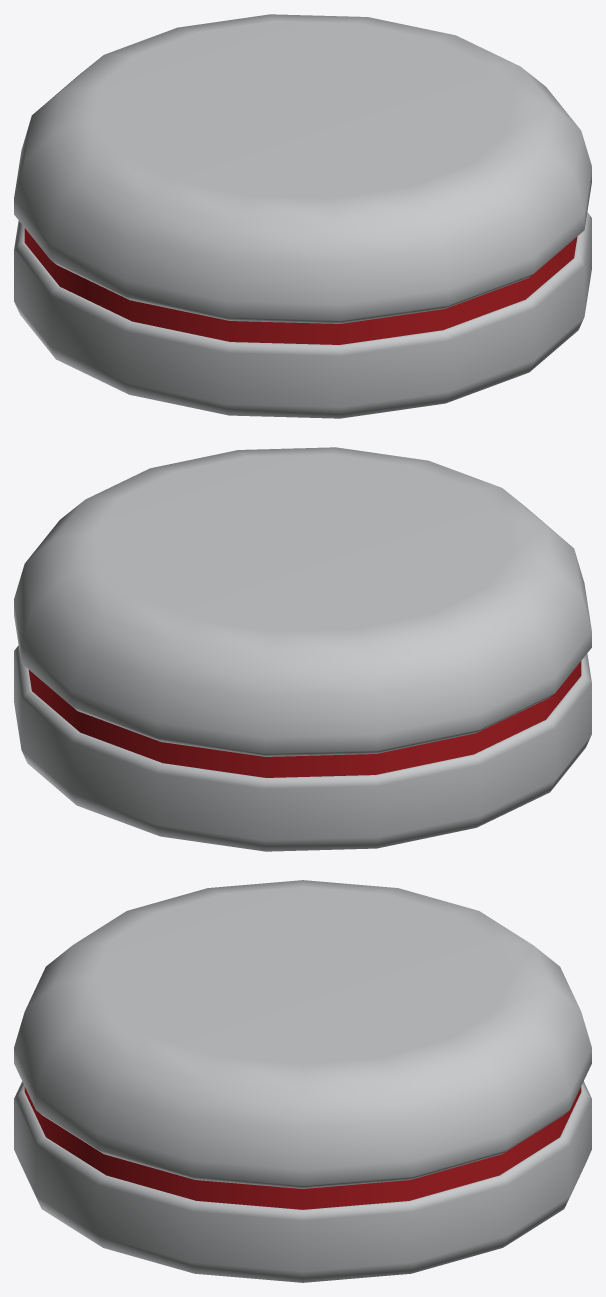
Rendered from flaskcap_001.fbx.
3 views of the same model, one above another, from view 1: azimuth 30°, elevation 25°; view 2: azimuth 150°, elevation 25°; view 3: azimuth 270°, elevation 25° (orthographic).
Visible parts, largest first — view 1: flaskcap_001; view 2: flaskcap_001; view 3: flaskcap_001.
Part boxes in pixels (bbox=[...]): flaskcap_001: bbox=[14, 14, 591, 418]; flaskcap_001: bbox=[14, 447, 591, 851]; flaskcap_001: bbox=[14, 880, 591, 1282].
Size of the model in its own units: 266 by 266 by 97.91.
